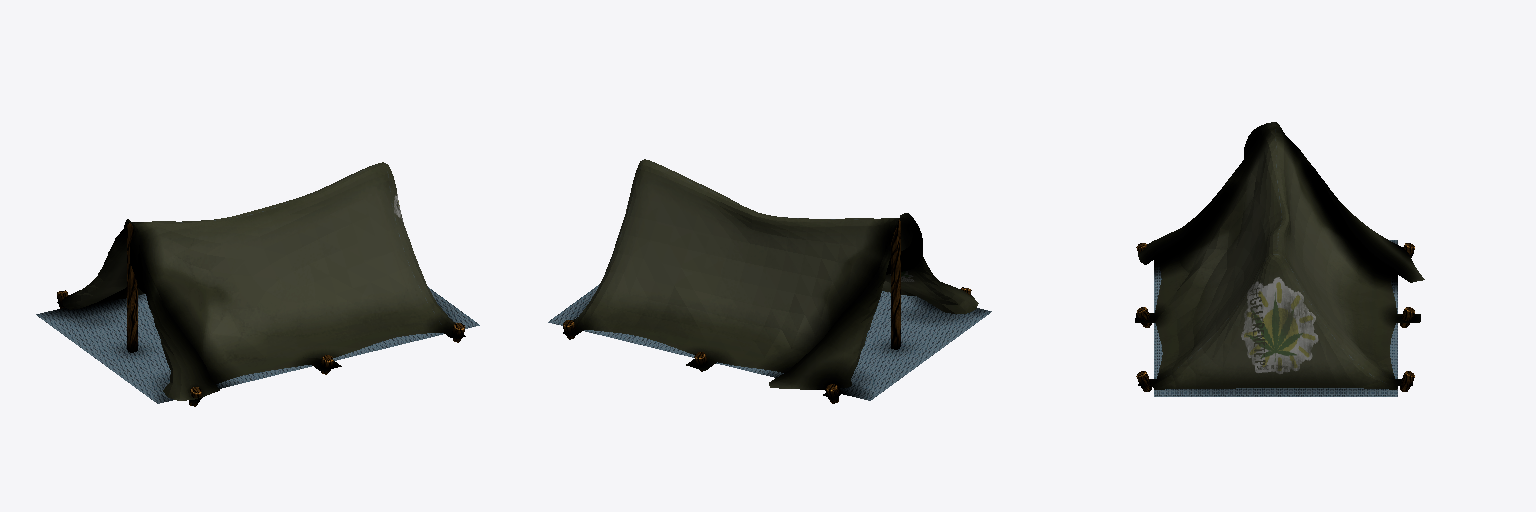
The picture shows the model from 3 angles: view 1: azimuth 30°, elevation 25°; view 2: azimuth 150°, elevation 25°; view 3: azimuth 270°, elevation 25°; orthographic projection.
Parts seen in each view (by area): view 1: BasicCampingtente; view 2: BasicCampingtente; view 3: BasicCampingtente.
Boxes of the visible parts, <box> form: BasicCampingtente: <box>36,162,479,406</box>; BasicCampingtente: <box>548,159,991,403</box>; BasicCampingtente: <box>1135,122,1424,396</box>.
Bounding box in the file's own units: 280 × 117 × 218.
1 materials, 1 textured.